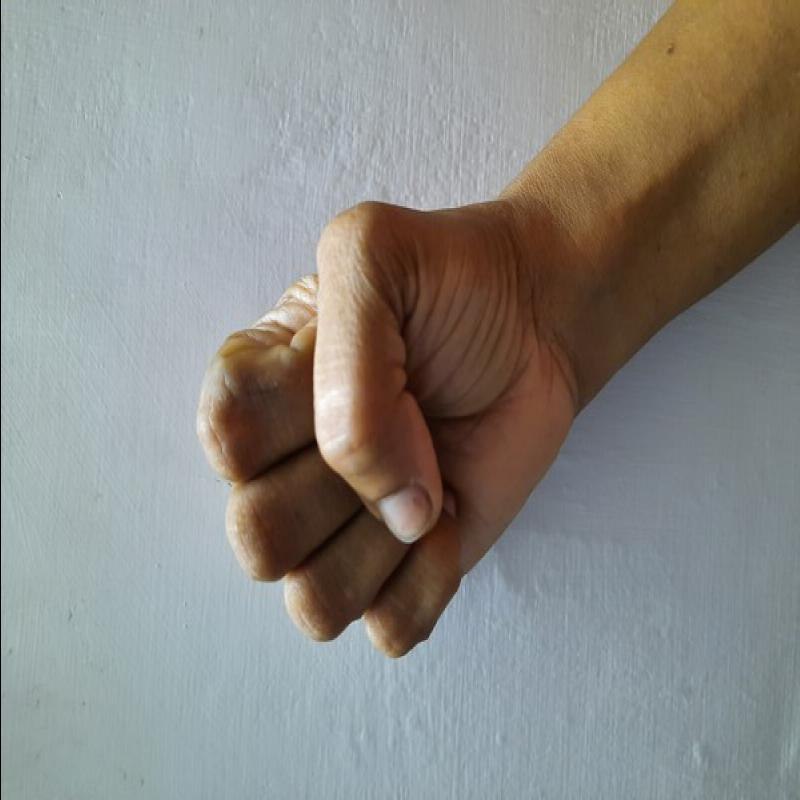Mushti: (193, 192, 576, 690)
